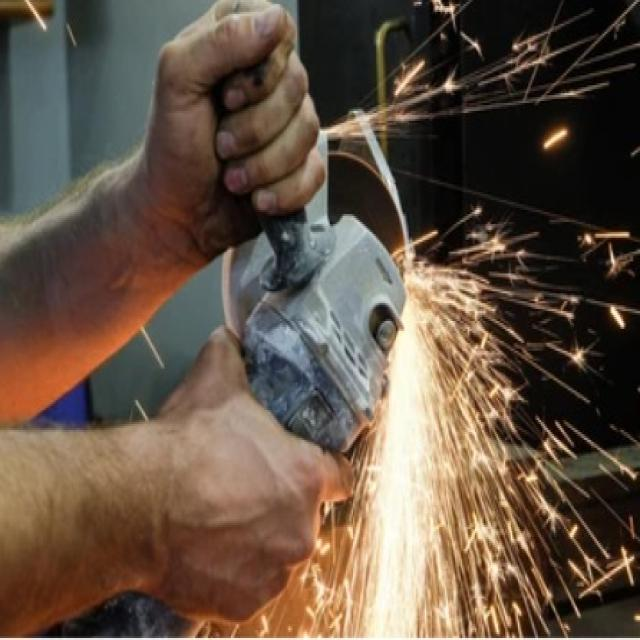not-gloved: (144, 339, 358, 602), (139, 0, 326, 262)
